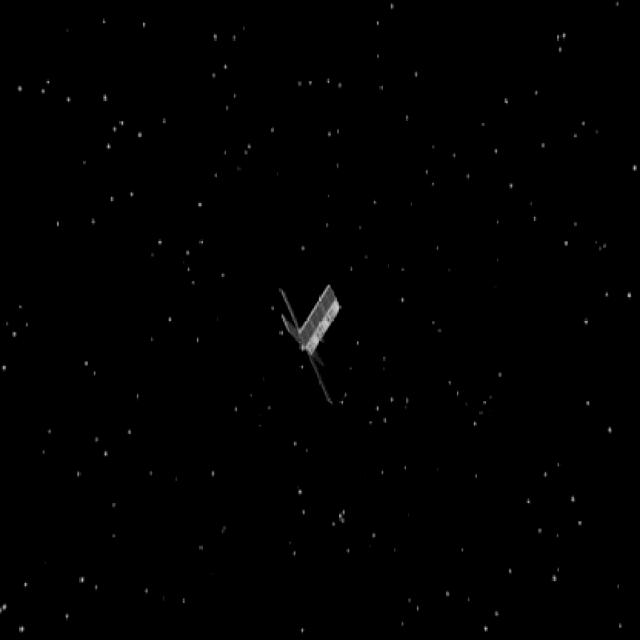satellite: (263, 273, 354, 410)
